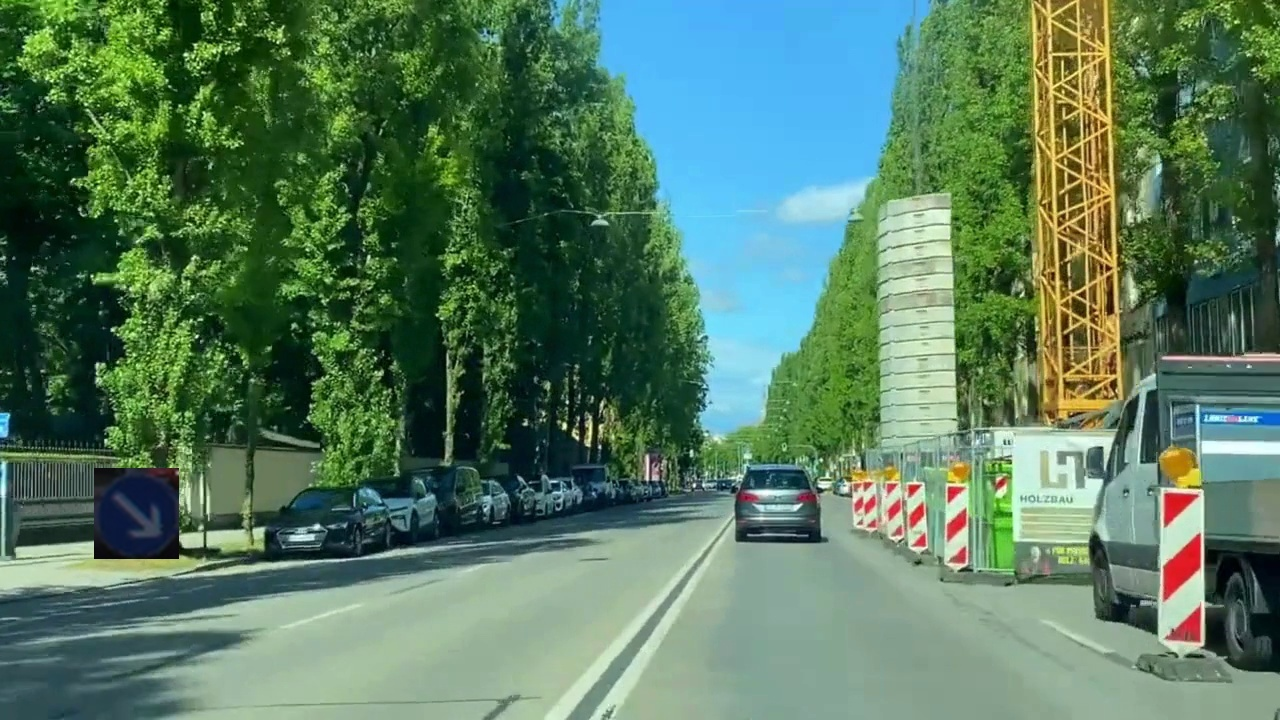Keep right: (94, 468, 179, 559)
